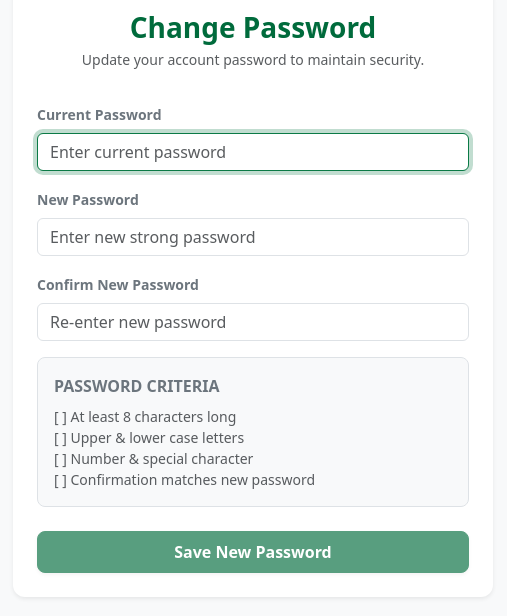
Test: Lab 3 Auth UI: Change Password Screen › should keep submit button disabled until all criteria are met
Expected: the button "Save New Password" is disabled, [37,531,469,573]
Fill current password
Type "InitialPassword123!" into the password field labelled "Current Password" at (253, 152), box [37,133,469,171]
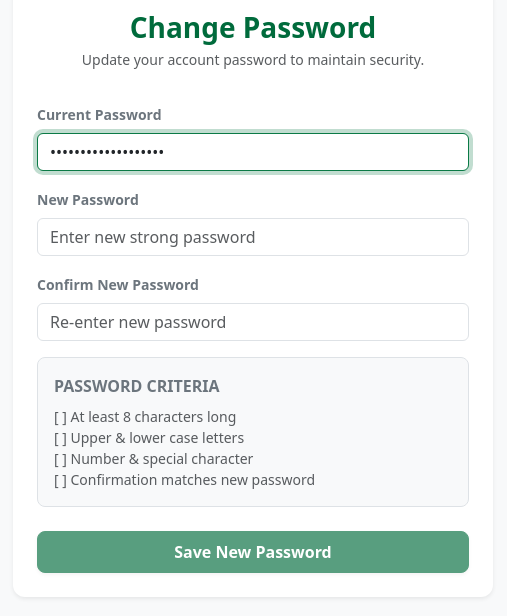
Fill invalid weak password
Type "short" into the password field labelled "New Password" at (253, 237), box [37,218,469,256]
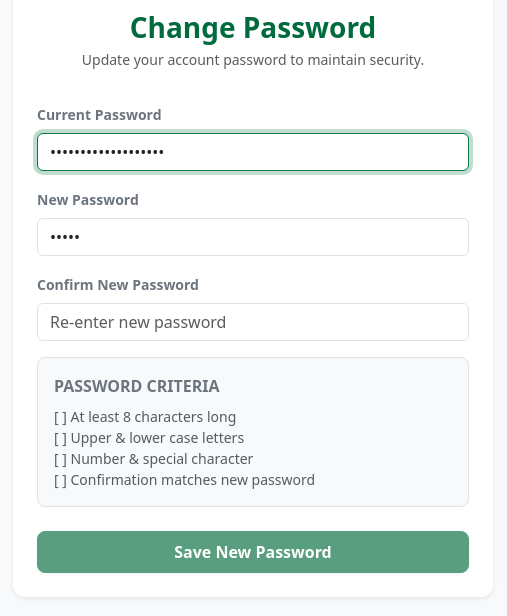
Type "short" into the password field labelled "Confirm New Password" at (253, 322), box [37,303,469,341]
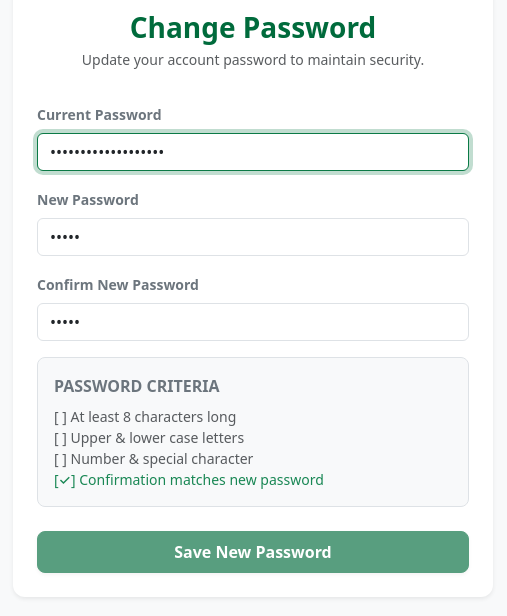
Expected: the button "Save New Password" is disabled, [37,531,469,573]
Fill valid password meeting all rules
Type "NewSecurePassword456!" into the password field labelled "New Password" at (253, 237), box [37,218,469,256]
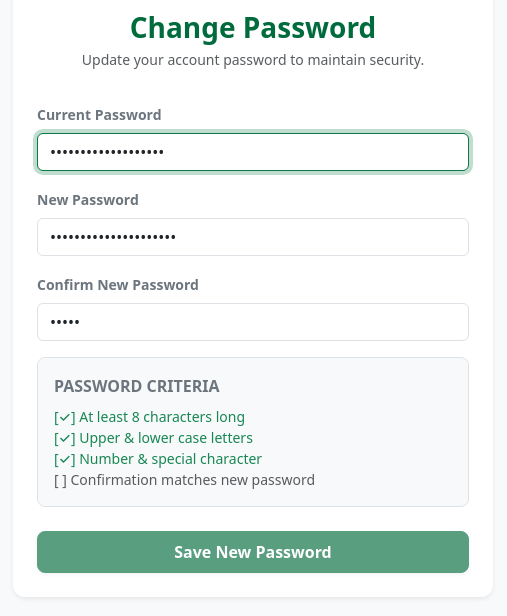
Type "NewSecurePassword456!" into the password field labelled "Confirm New Password" at (253, 322), box [37,303,469,341]
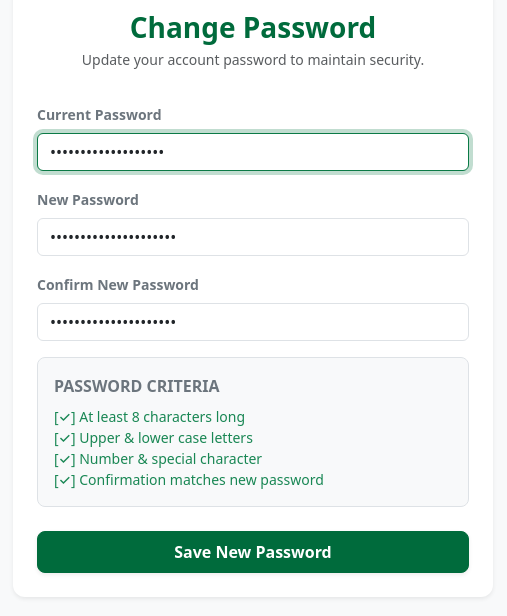
Expected: the button "Save New Password" is enabled, [37,531,469,573]
